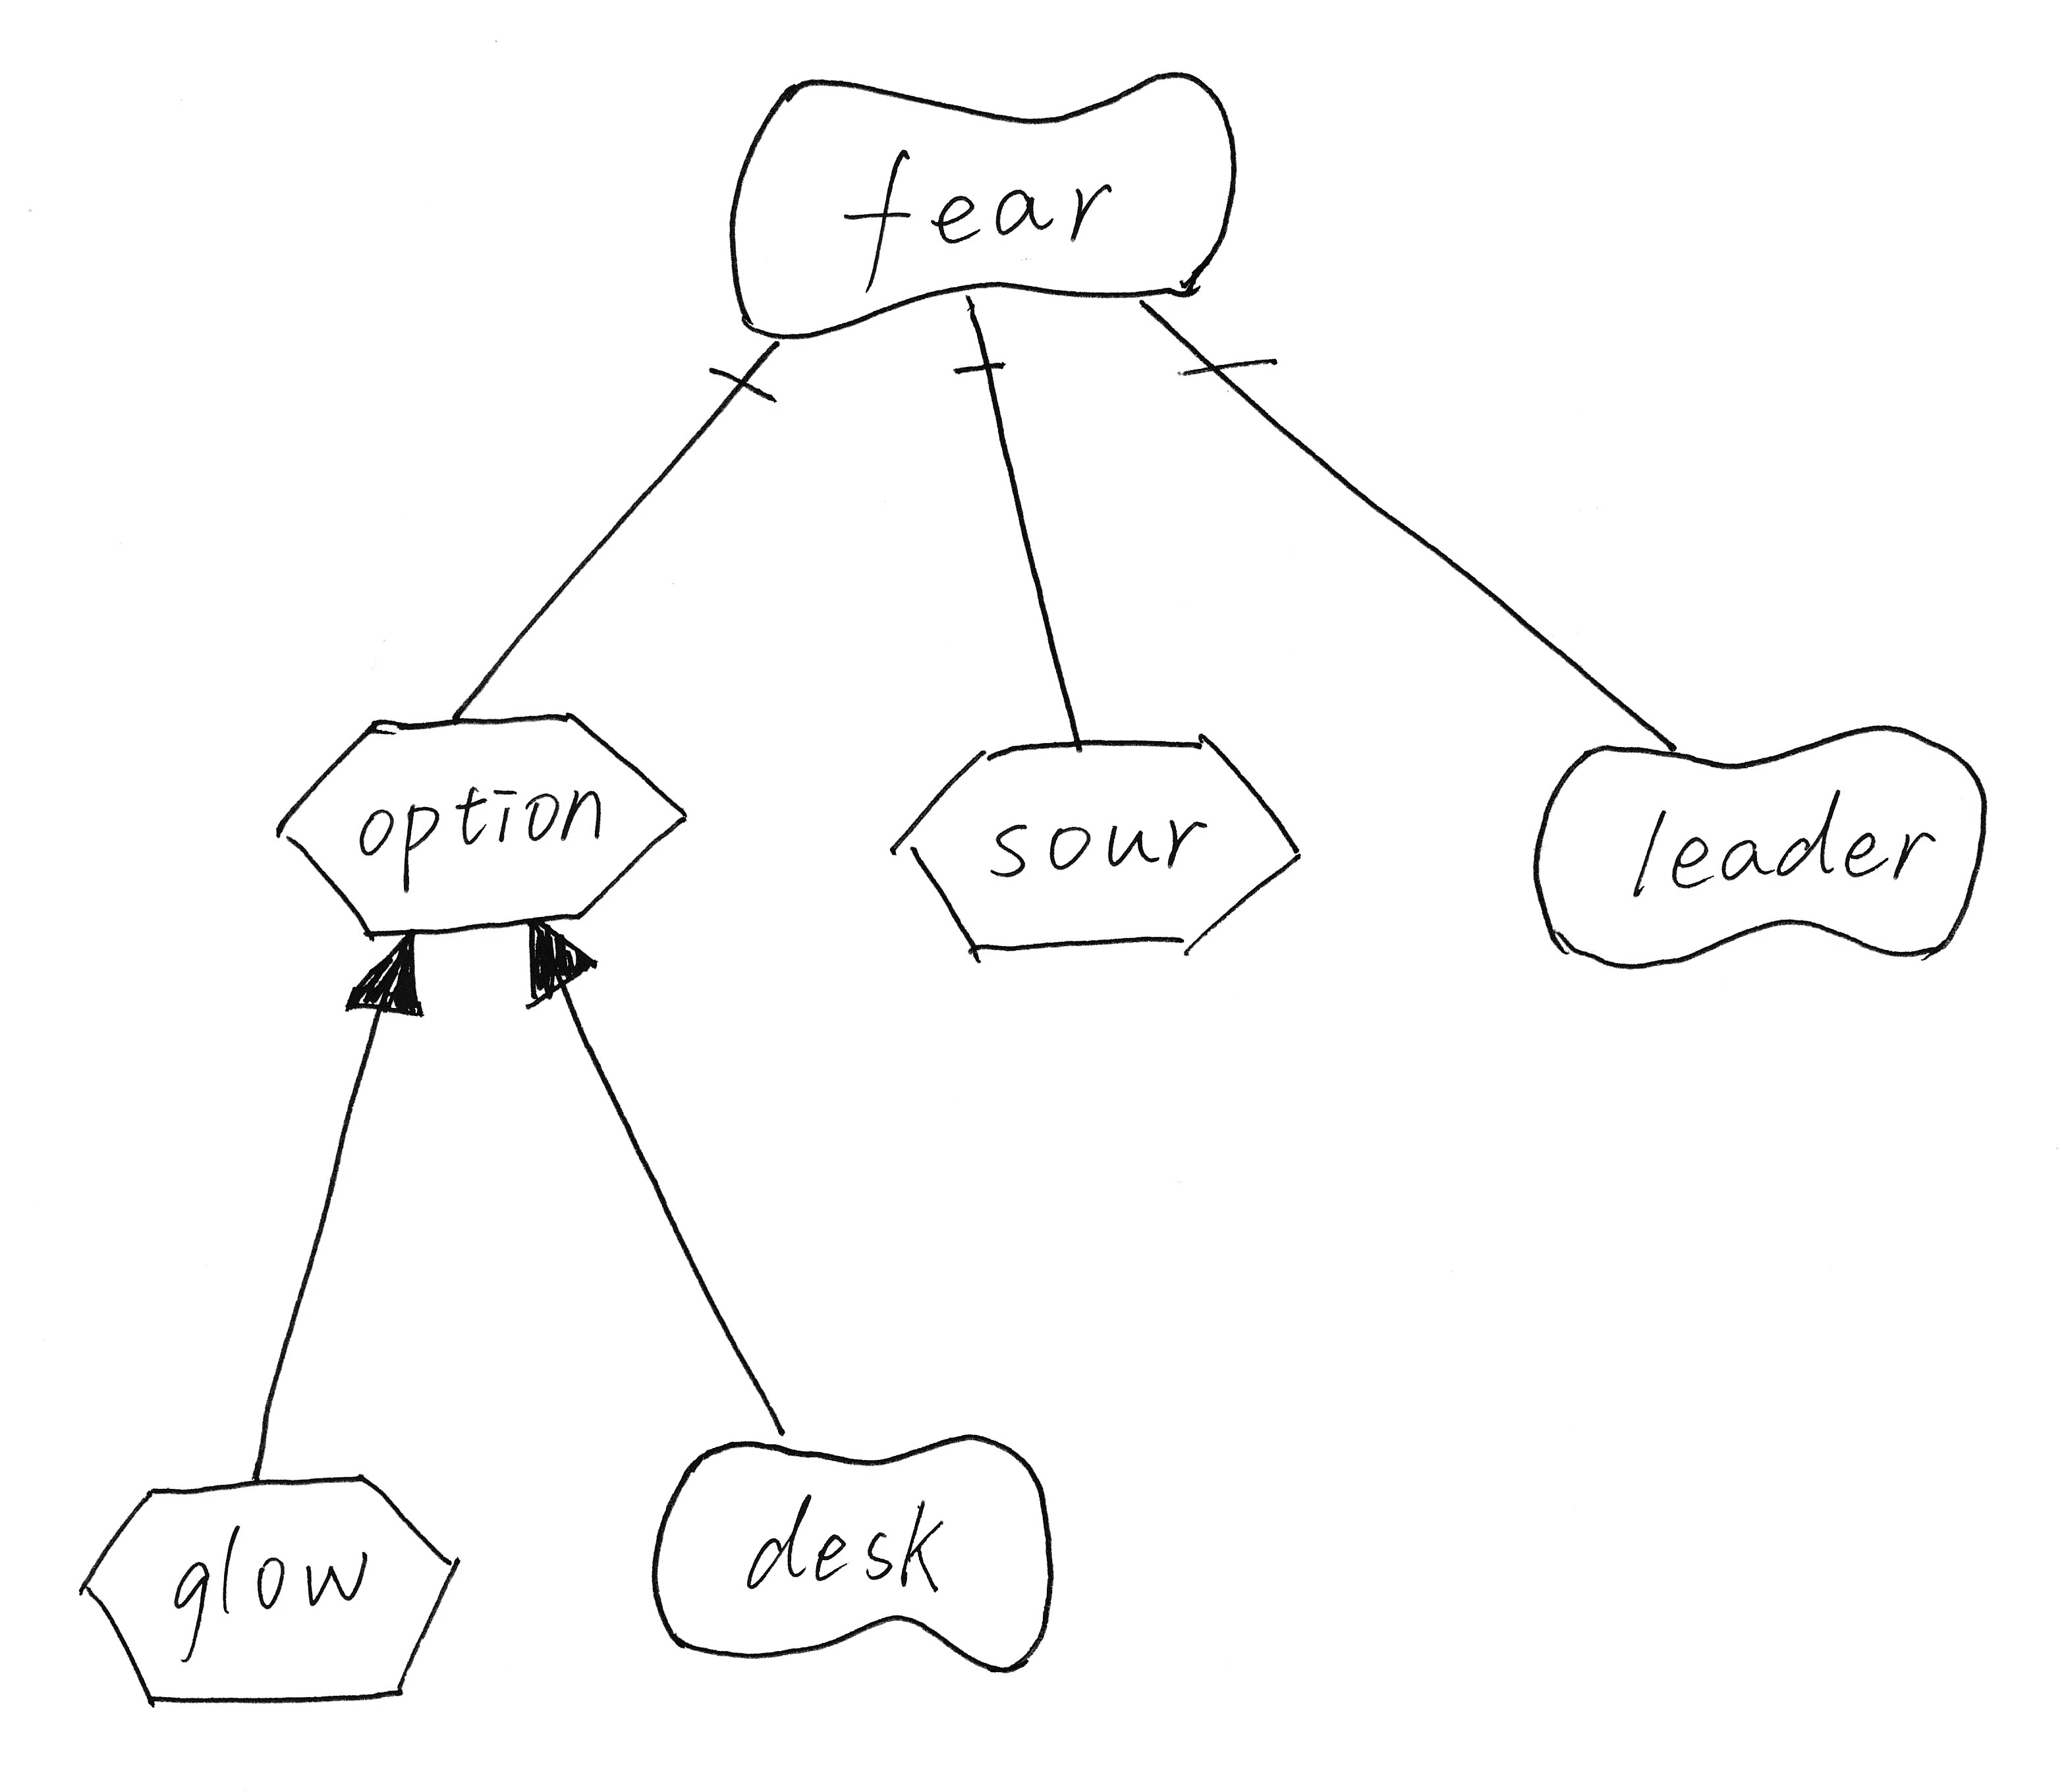and: (1115, 272, 1301, 403), (917, 270, 1029, 405), (694, 324, 796, 424)
or: (500, 903, 610, 1020), (333, 915, 440, 1033)
quality: (703, 42, 1273, 366), (1511, 705, 2015, 1001), (631, 1415, 1077, 1690)
task: (252, 694, 708, 968), (875, 714, 1326, 987), (63, 1450, 482, 1724)
